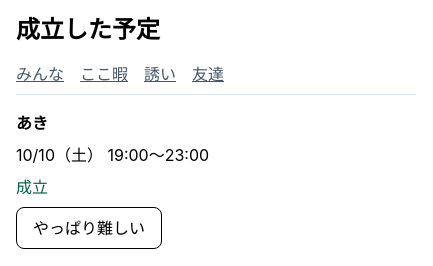
Test case: 誘いタブと成立した予定 › やっぱり難しい：押したらすぐキャンセルを表示する
Click the button "やっぱり難しい" at (89, 228), box [16,207,162,249]
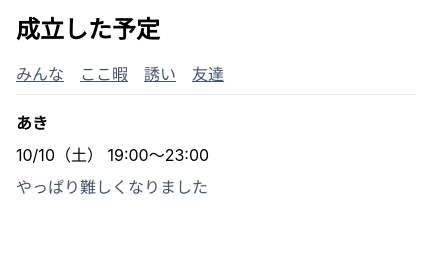
Expected: the text "やっぱり難しくなりました" is shown, [16,177,208,197]
